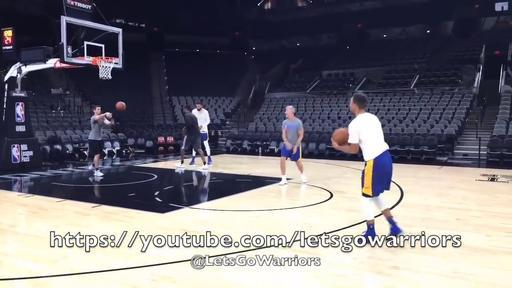ball: (332, 128, 348, 145), (116, 101, 126, 110)
human: (331, 92, 403, 244), (278, 106, 308, 186), (176, 106, 208, 169), (88, 105, 114, 176), (190, 103, 212, 165)
rim: (96, 56, 115, 79)
